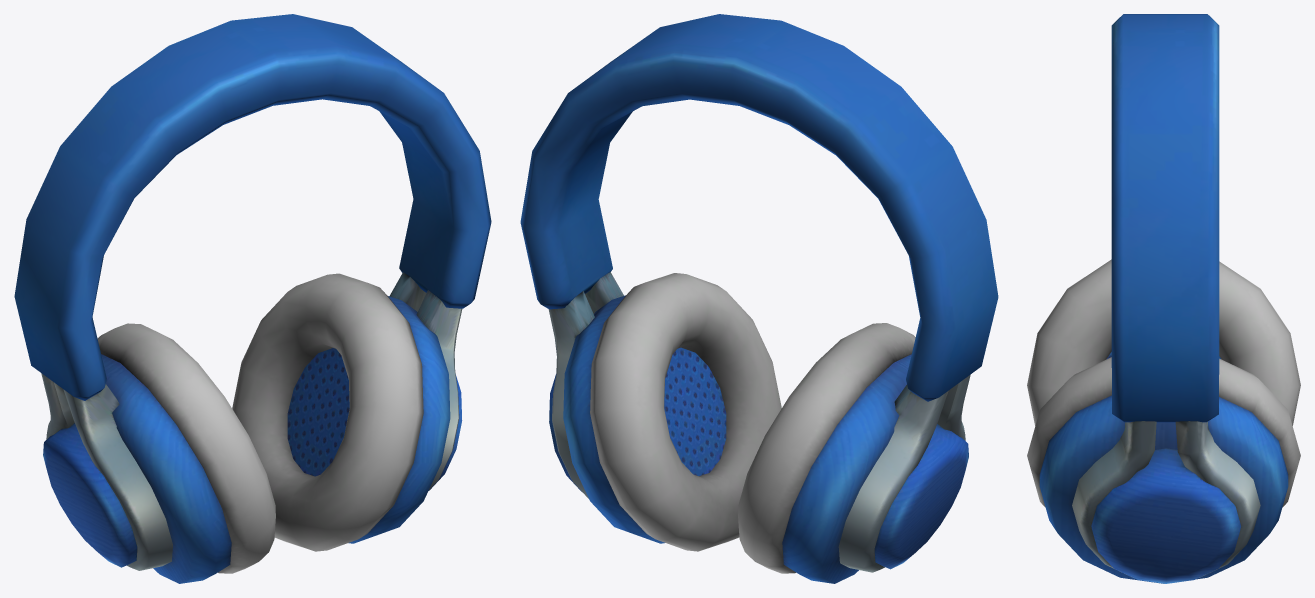
File: 0-headphone_blue.fbx
3 renders of one model, left to right at view 1: azimuth 30°, elevation 25°; view 2: azimuth 150°, elevation 25°; view 3: azimuth 270°, elevation 25°, orthographic. The views are drawn at different scales.
Visible parts, largest first — view 1: 0-headphone_blue; view 2: 0-headphone_blue; view 3: 0-headphone_blue.
Part boxes in pixels (x1,y1,x2,y2): 0-headphone_blue: (14, 14, 491, 583); 0-headphone_blue: (520, 14, 998, 583); 0-headphone_blue: (1027, 14, 1300, 583).
Bounding box in the file's own units: 84.79 × 96.24 × 47.35.
